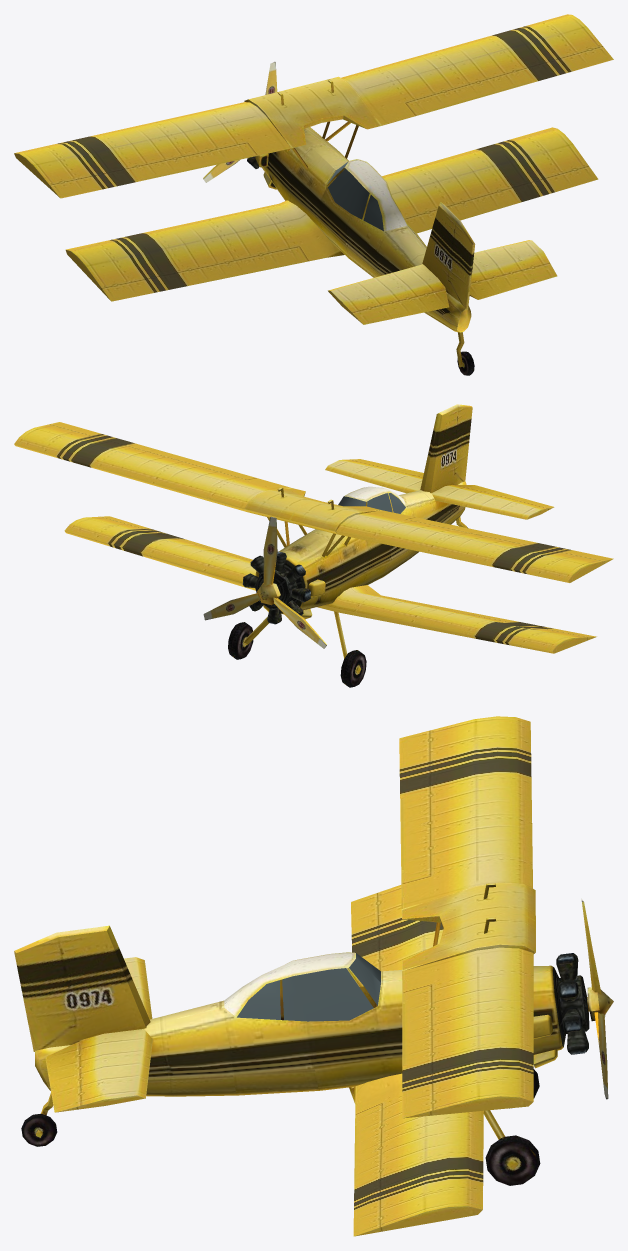
The model's file is p54_45_biplane_yellow.glb.
3 renders of one model, top to bottom at view 1: azimuth 30°, elevation 25°; view 2: azimuth 150°, elevation 25°; view 3: azimuth 270°, elevation 25°, orthographic. The views are drawn at different scales.
Parts seen in each view (by area): view 1: Body, Glass; view 2: Body, Glass; view 3: Body, Glass.
Part boxes in pixels (bbox=[...]): Body: bbox=[14, 14, 613, 375]; Glass: bbox=[327, 161, 383, 231]; Body: bbox=[14, 404, 613, 687]; Glass: bbox=[338, 493, 405, 513]; Body: bbox=[14, 716, 613, 1236]; Glass: bbox=[237, 953, 380, 1021].
Bounding box in the file's own units: 12.36 × 3.7 × 8.15.
2 materials, 2 textured.
